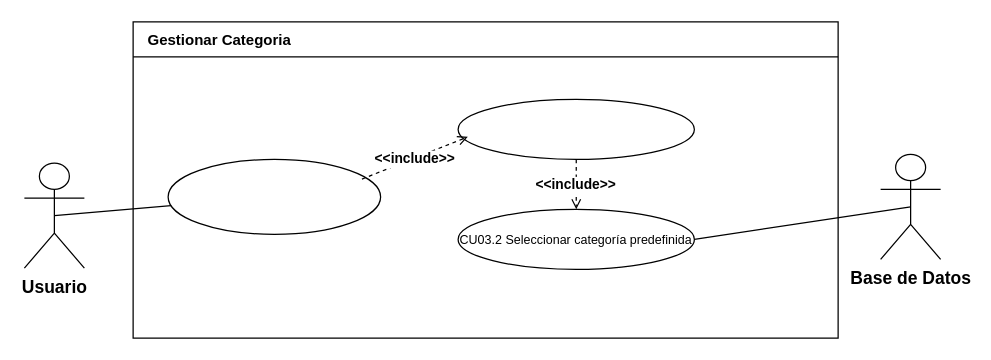
This 991x360 diagram has some shape labels left out. The shapes that lost their labels are listed below. From the top down, each one's box as (x1, y1, x2, y2) in pixels, then its label:
(457, 98, 694, 159): CU03.1 Visualizar categorías por tipo (ingreso, gasto, activo, pasivo)
(167, 158, 381, 234): CU03 Gestionar categoria
